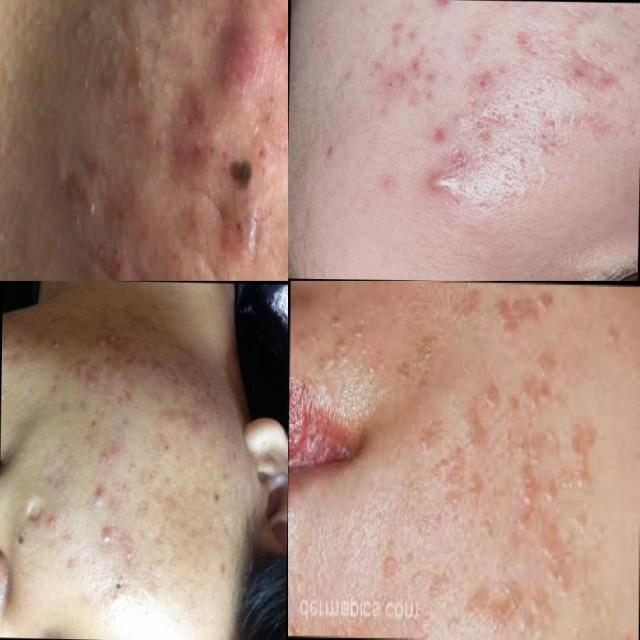Pimples: (51, 142, 142, 280), (213, 12, 271, 100), (177, 116, 230, 186), (420, 164, 476, 198), (309, 126, 346, 162), (388, 12, 420, 48), (511, 29, 548, 58), (90, 330, 134, 354), (468, 62, 499, 94), (588, 70, 624, 94), (536, 110, 570, 133), (90, 478, 113, 510), (94, 522, 118, 550), (478, 119, 500, 148), (422, 126, 450, 148), (408, 52, 430, 80), (567, 48, 583, 86), (39, 508, 63, 532), (81, 373, 102, 393), (75, 355, 93, 377)
